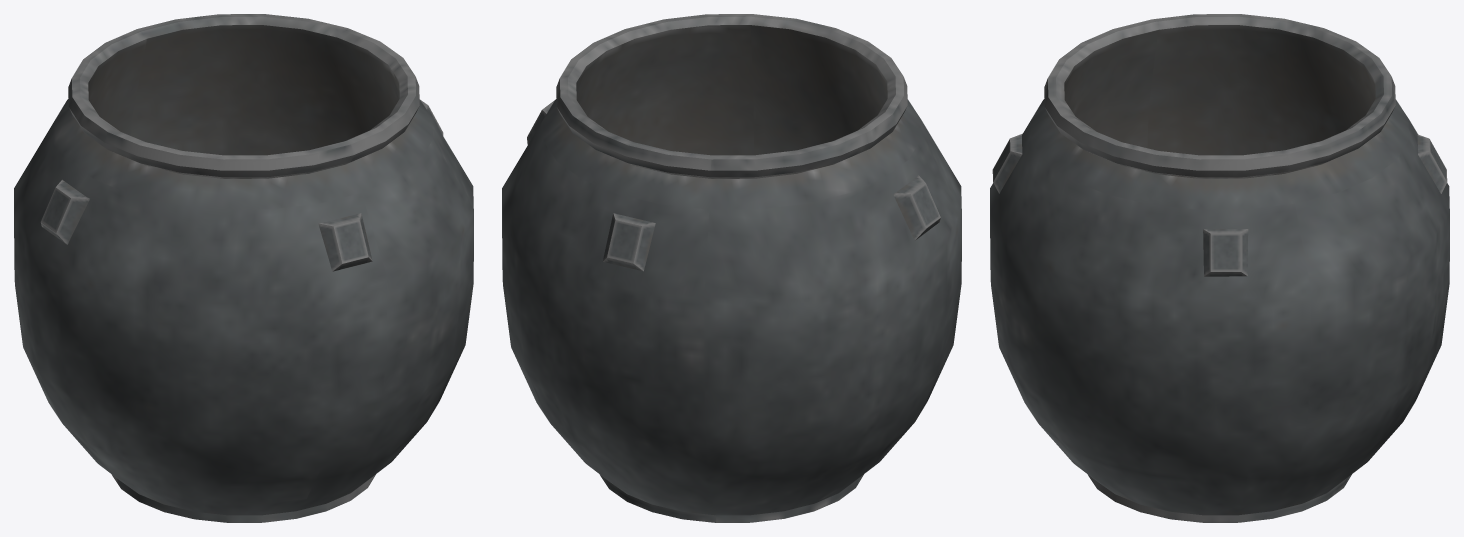
The model's file is Mausoleum Vase 4.fbx.
3 views of the same model, side by side, from view 1: azimuth 30°, elevation 25°; view 2: azimuth 150°, elevation 25°; view 3: azimuth 270°, elevation 25° (orthographic).
Parts seen in each view (by area): view 1: Cylinder.003; view 2: Cylinder.003; view 3: Cylinder.003.
Boxes of the visible parts, x1,y1,x2,y2 form: Cylinder.003: (14, 14, 473, 522); Cylinder.003: (502, 14, 961, 522); Cylinder.003: (990, 14, 1449, 522).
Size of the model in its own units: 49.65 by 45.38 by 49.65.
